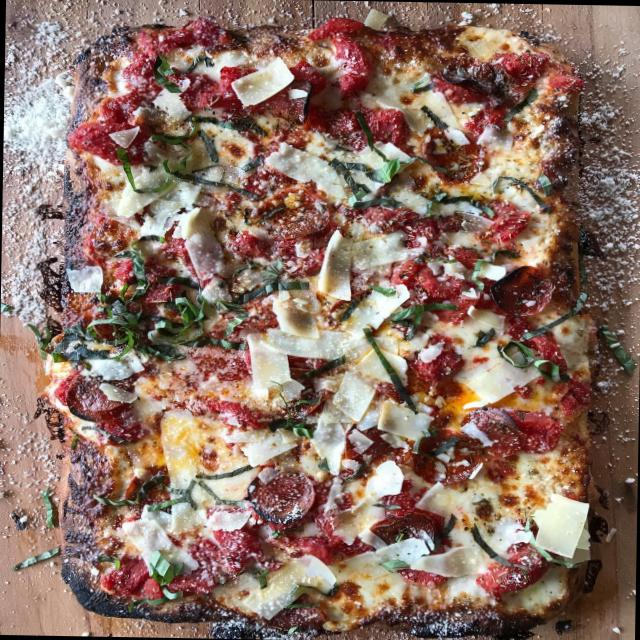pepperoni: (255, 185, 333, 238), (422, 123, 488, 182), (410, 426, 475, 484), (490, 258, 552, 316), (245, 465, 308, 522), (463, 404, 528, 454), (67, 366, 126, 412)
pizza: (25, 15, 614, 640)
